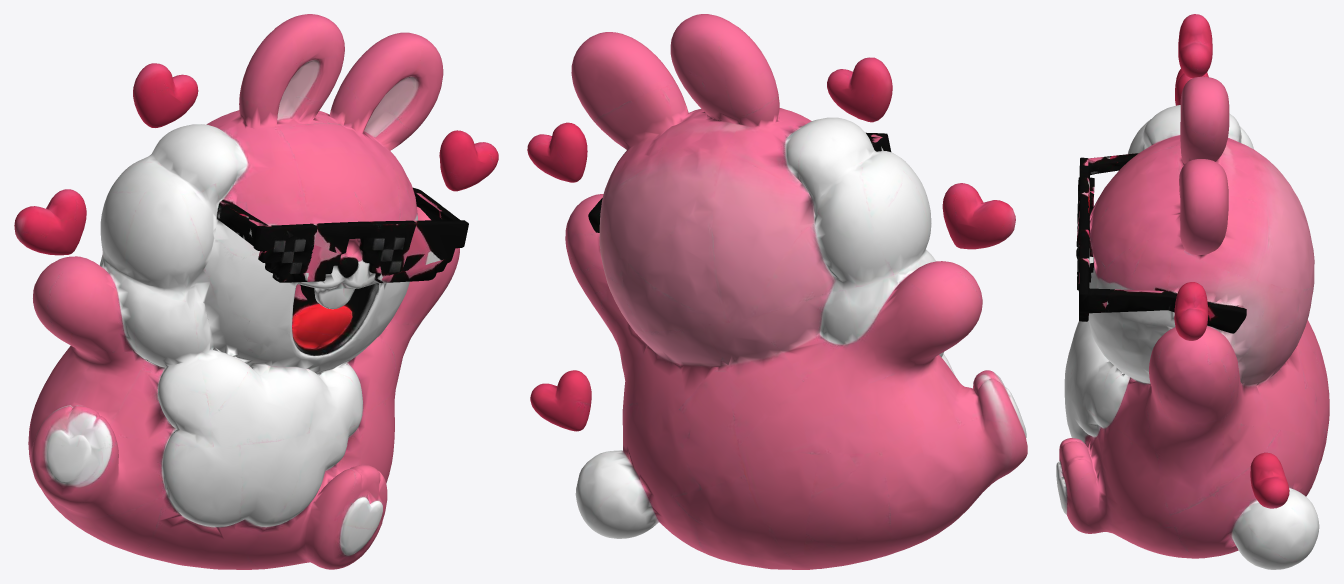
The model's file is invent.glb.
3 renders of one model, left to right at view 1: azimuth 30°, elevation 25°; view 2: azimuth 150°, elevation 25°; view 3: azimuth 270°, elevation 25°, orthographic. The views are drawn at different scales.
Visible parts, largest first — view 1: mesh_node; view 2: mesh_node; view 3: mesh_node.
Boxes of the visible parts, bbox=[...] form: mesh_node: bbox=[14, 14, 498, 569]; mesh_node: bbox=[527, 14, 1027, 569]; mesh_node: bbox=[1056, 14, 1329, 569].
Bounding box in the file's own units: 1.86 × 1.9 × 0.9815.
1 material, 1 textured.
